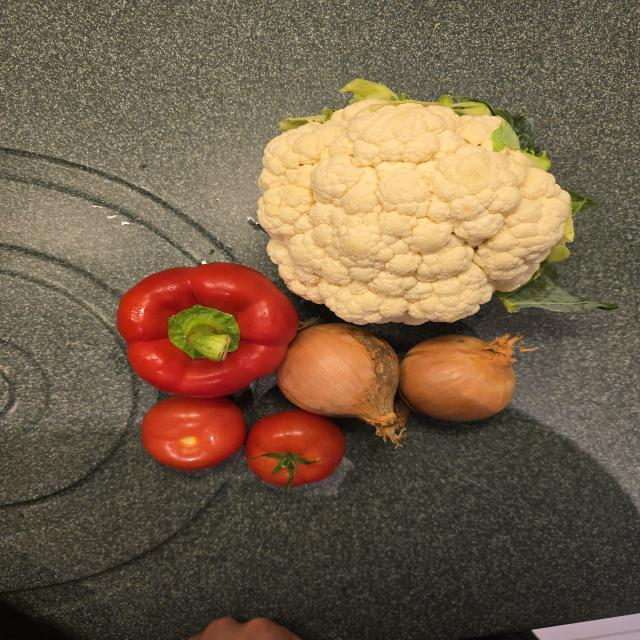Bell Pepper: (117, 263, 299, 397)
Cauliflower: (258, 80, 595, 325)
Onion: (277, 324, 407, 445), (399, 334, 520, 421)
Tomato: (141, 396, 245, 470), (246, 409, 345, 486)
